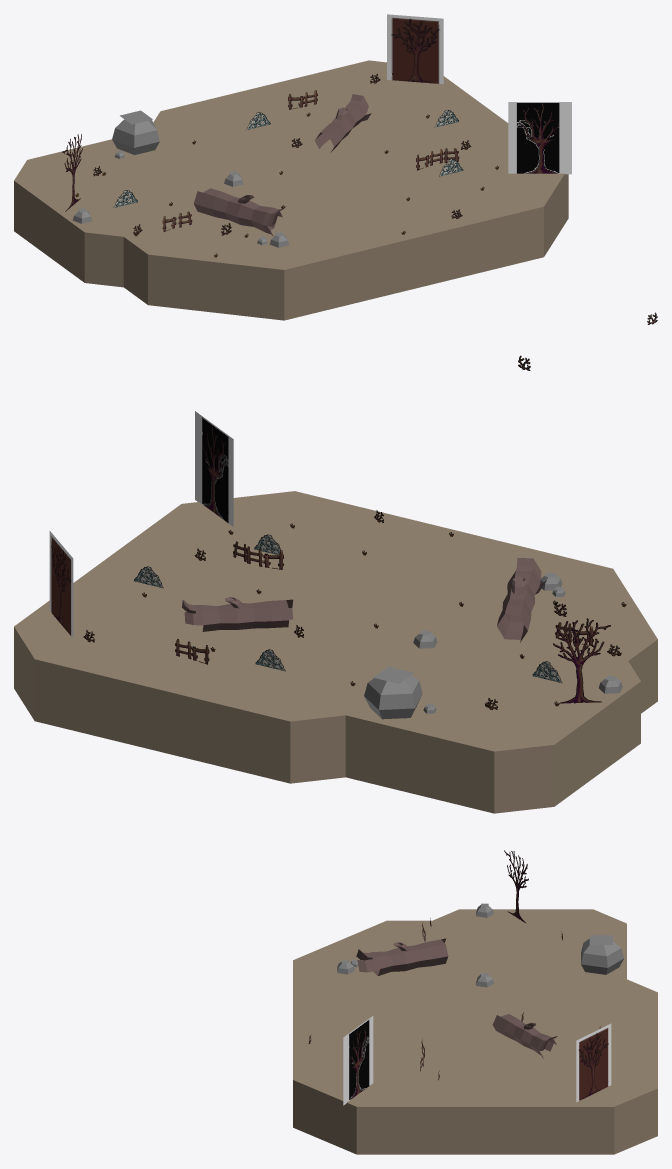
File: Nivel02.fbx
3 renders of one model, top to bottom at view 1: azimuth 30°, elevation 25°; view 2: azimuth 150°, elevation 25°; view 3: azimuth 270°, elevation 25°, orthographic. The views are drawn at different scales.
Visible parts, largest first — view 1: Base.002, ARBOL3, ARBOL2BOSQUE, T 2.001, R.B. Grande, T 2, ARBOL1; view 2: Base.002, ARBOL3, T 2, T 2.001, R.B. Grande, ARBOL2BOSQUE, ARBOL1; view 3: Base.002, ARBOL2BOSQUE, T 2.001, ARBOL3, R.B. Grande, T 2, ARBOL1.
Boxes of the visible parts, x1,y1,x2,y2 form: Base.002: (14,60,568,320); ARBOL3: (508,102,571,174); ARBOL2BOSQUE: (387,14,443,84); T 2.001: (194,188,286,236); R.B. Grande: (112,110,159,154); T 2: (315,94,371,152); ARBOL1: (62,134,82,211); Base.002: (14,491,657,813); ARBOL3: (195,411,233,526); T 2: (182,597,293,631); T 2.001: (497,557,546,642); R.B. Grande: (364,666,422,719); ARBOL2BOSQUE: (49,531,73,638); ARBOL1: (553,618,610,703); Base.002: (293,909,657,1154); ARBOL2BOSQUE: (576,1023,611,1102); T 2.001: (356,938,448,975); ARBOL3: (343,1016,373,1105); R.B. Grande: (581,935,624,974); T 2: (492,1014,557,1058); ARBOL1: (504,850,528,923).
Bounding box in the file's own units: 1753 × 474 × 2396.
13 materials, 10 textured.
